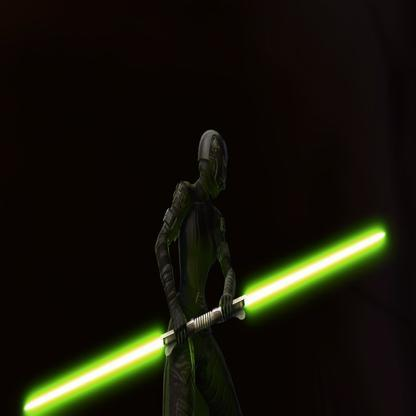lightsaber: (24, 227, 387, 415)
person: (146, 127, 260, 416)
